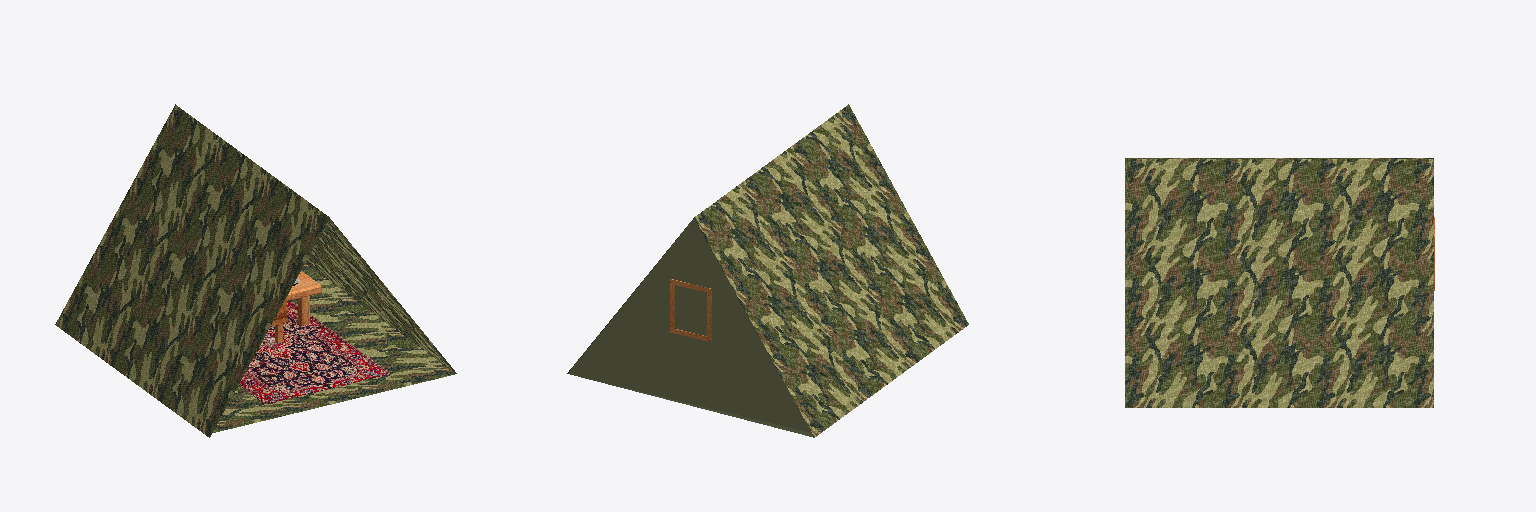
3 views of the same model, side by side, from view 1: azimuth 30°, elevation 25°; view 2: azimuth 150°, elevation 25°; view 3: azimuth 270°, elevation 25° (orthographic).
Parts seen in each view (by area): view 1: Palatka, Kover, Table; view 2: Palatka, Picture; view 3: Palatka.
Part boxes in pixels (x1,y1,x2,y2): Palatka: (55, 104, 456, 437); Kover: (239, 301, 389, 403); Table: (287, 271, 321, 325); Palatka: (567, 104, 968, 437); Picture: (670, 279, 711, 341); Palatka: (1125, 158, 1433, 407).
Size of the model in its own units: 30.49 by 22.58 by 33.05.
Materials: 13 (6 with a texture image).